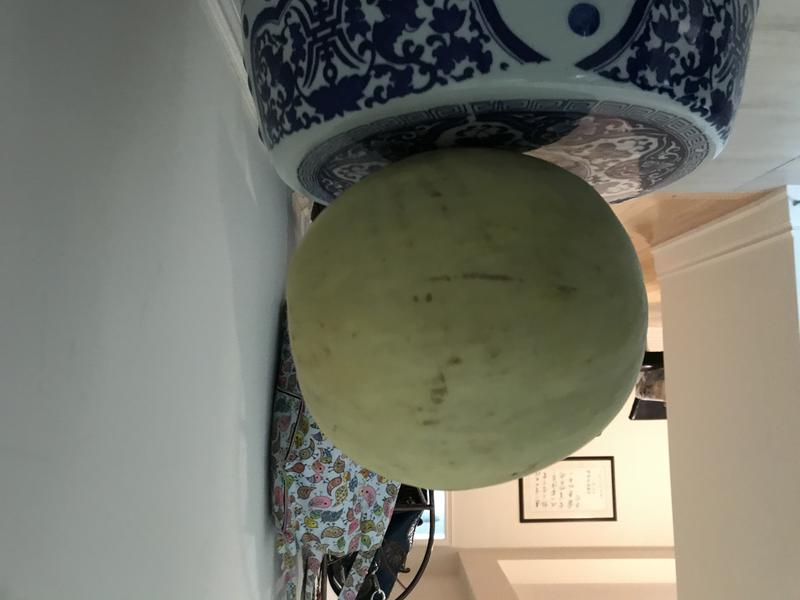honeydew: (266, 136, 662, 504)
